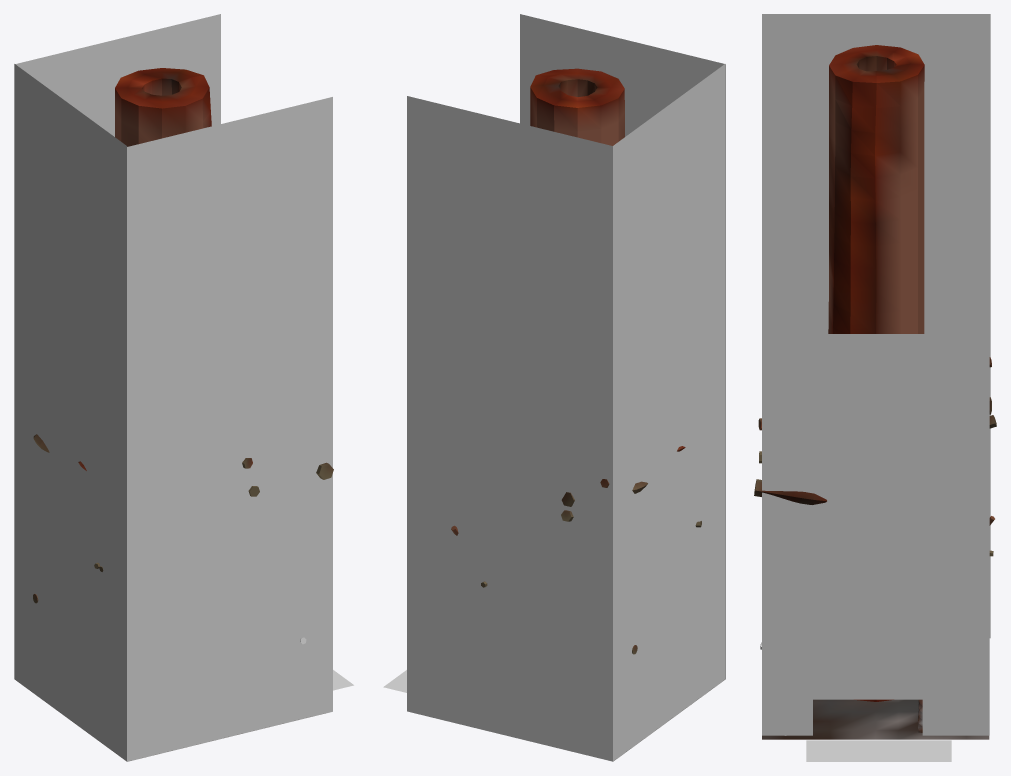
The model's file is Générateur(2).fbx.
3 views of the same model, side by side, from view 1: azimuth 30°, elevation 25°; view 2: azimuth 150°, elevation 25°; view 3: azimuth 270°, elevation 25° (orthographic).
Parts seen in each view (by area): view 1: Plan 5, Plan 2, Plan 4, Cylindre, Tube; view 2: Plan 4, Plan 2, Plan 5, Cylindre, Tube; view 3: Plan 2, Plan 8, Cylindre, Plan 7, Plan 6, Plan 1, Plan, Tube.
Part boxes in pixels (x1,y1,x2,y2): Plan 5: [127, 97, 332, 761]; Plan 2: [14, 64, 127, 761]; Plan 4: [15, 14, 220, 136]; Cylindre: [115, 68, 211, 146]; Tube: [33, 434, 333, 603]; Plan 4: [407, 96, 612, 761]; Plan 2: [613, 64, 725, 761]; Plan 5: [520, 14, 725, 678]; Cylindre: [530, 68, 624, 145]; Tube: [451, 446, 701, 654]; Plan 2: [762, 14, 990, 638]; Plan 8: [812, 334, 922, 699]; Cylindre: [828, 45, 924, 701]; Plan 7: [922, 334, 989, 735]; Plan 6: [762, 334, 812, 735]; Plan 1: [762, 699, 989, 739]; Plan: [806, 740, 951, 761]; Tube: [754, 357, 996, 556].
Size of the model in its own units: 17.58 by 41.1 by 14.39.
